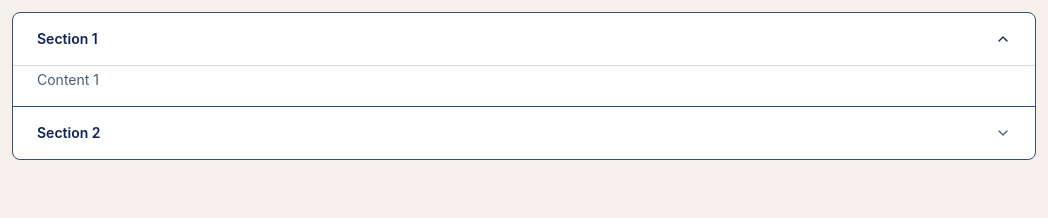
it: Accordion Component › renders multiple-mode accordion allowing multiple panels open
The image size is (1048, 218).
Click the button "Section 2" at x=69, y=132, box [13,107,1035,159]
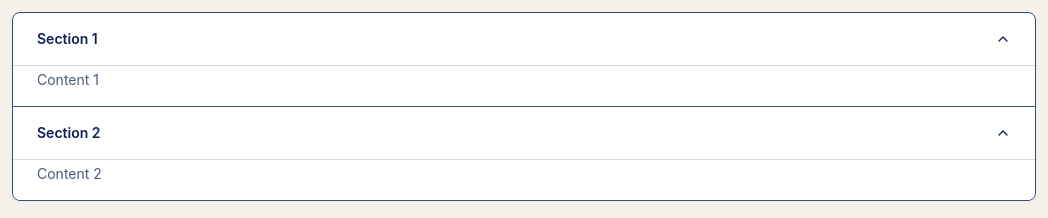
Expected: the text "Content 1" is shown, [13,65,1035,106]
Result: the text "Content 2" is shown at [13,159,1035,200]
